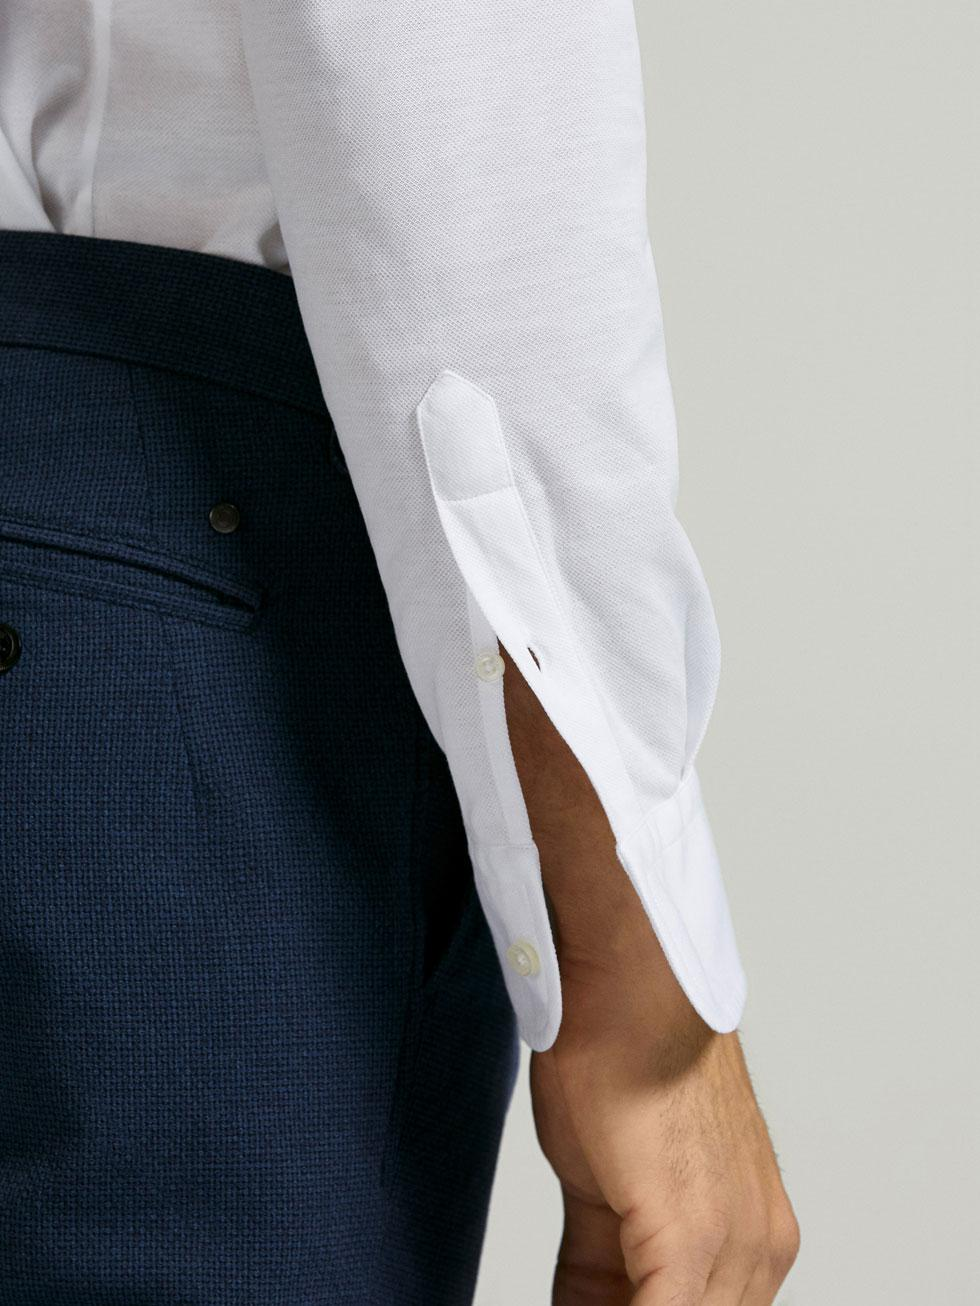teeshirt: (1, 1, 779, 1055)
